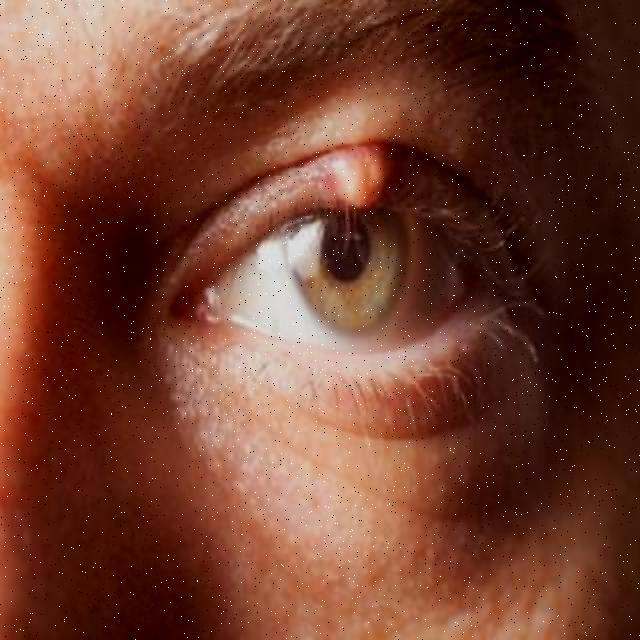Stye: (312, 133, 424, 220)
